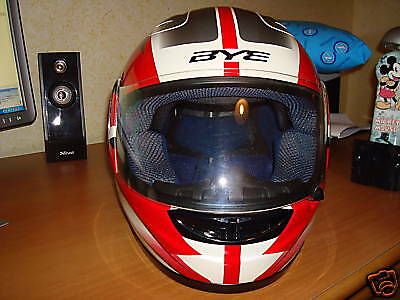helmet: (98, 3, 321, 289)
